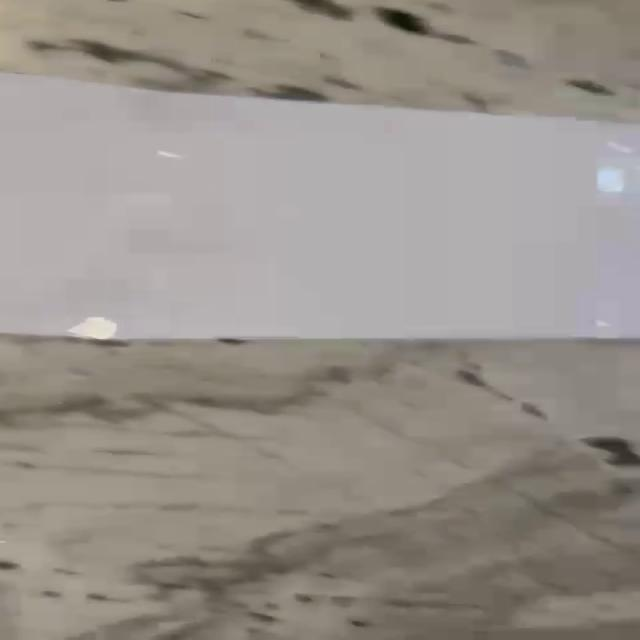road: (0, 72, 640, 341)
